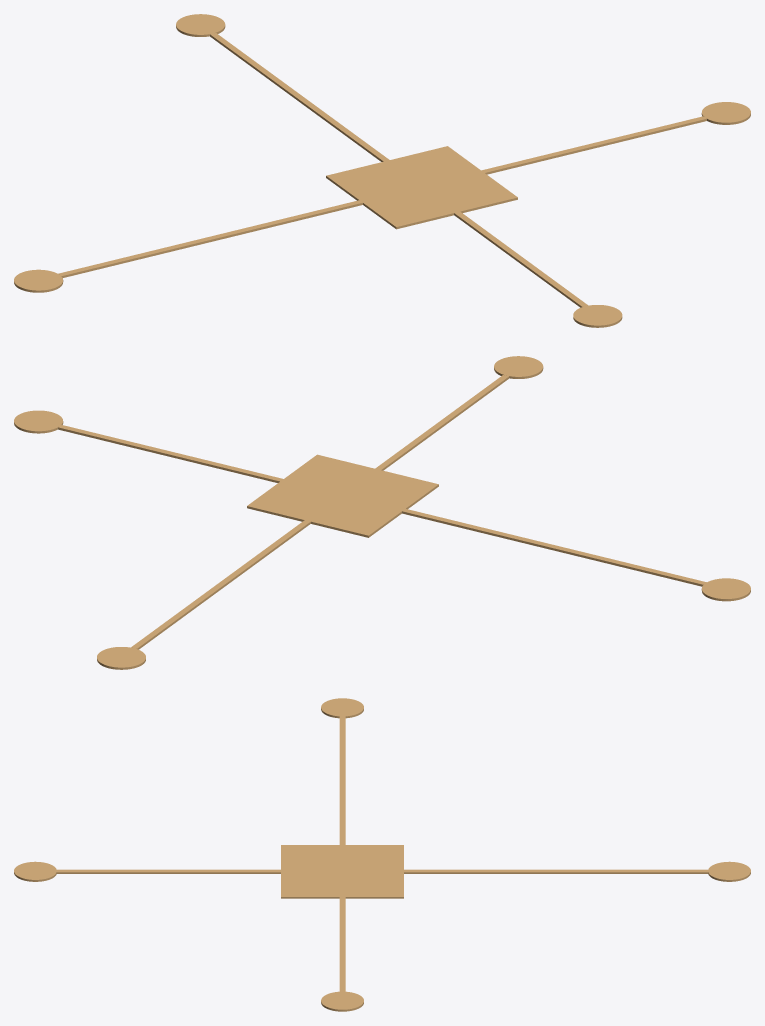
File: board.glb
3 renders of one model, top to bottom at view 1: azimuth 30°, elevation 25°; view 2: azimuth 150°, elevation 25°; view 3: azimuth 270°, elevation 25°, orthographic. The views are drawn at different scales.
Visible parts, largest first — view 1: Unified_Net_1_Island_1, Unified_Net_4_Island_5, Unified_Net_2_Island_6, Unified_Net_3_Island_3, Unified_Net_4_Island_4, Unified_Net_1_Island_0, Unified_Net_3_Island_2, Unified_Net_2_Island_7; view 2: Unified_Net_1_Island_1, Unified_Net_4_Island_5, Unified_Net_2_Island_6, Unified_Net_3_Island_3, Unified_Net_4_Island_4, Unified_Net_3_Island_2, Unified_Net_2_Island_7, Unified_Net_1_Island_0; view 3: Unified_Net_1_Island_1, Unified_Net_2_Island_6, Unified_Net_4_Island_5, Unified_Net_3_Island_2, Unified_Net_1_Island_0, Unified_Net_2_Island_7, Unified_Net_4_Island_4, Unified_Net_3_Island_3.
Part boxes in pixels (x1,y1,x2,y2): Unified_Net_1_Island_1: (326, 146, 588, 307); Unified_Net_4_Island_5: (58, 200, 362, 277); Unified_Net_2_Island_6: (210, 33, 389, 161); Unified_Net_3_Island_3: (481, 116, 706, 174); Unified_Net_4_Island_4: (14, 269, 63, 292); Unified_Net_1_Island_0: (573, 305, 622, 327); Unified_Net_3_Island_2: (701, 102, 750, 124); Unified_Net_2_Island_7: (176, 14, 225, 36); Unified_Net_1_Island_1: (247, 375, 509, 537); Unified_Net_4_Island_5: (402, 508, 706, 586); Unified_Net_2_Island_6: (131, 520, 310, 649); Unified_Net_3_Island_3: (58, 425, 283, 482); Unified_Net_4_Island_4: (701, 578, 750, 601); Unified_Net_3_Island_2: (14, 410, 63, 433); Unified_Net_2_Island_7: (97, 647, 145, 669); Unified_Net_1_Island_0: (494, 356, 543, 378); Unified_Net_1_Island_1: (57, 845, 403, 898); Unified_Net_2_Island_6: (404, 869, 707, 873); Unified_Net_4_Island_5: (339, 716, 345, 844); Unified_Net_3_Island_2: (321, 991, 363, 1011); Unified_Net_1_Island_0: (14, 861, 56, 881); Unified_Net_2_Island_7: (708, 861, 750, 881); Unified_Net_4_Island_4: (321, 698, 363, 718); Unified_Net_3_Island_3: (339, 897, 345, 991).
Size of the model in its own units: 0.012 by 3.5e-05 by 0.012.
